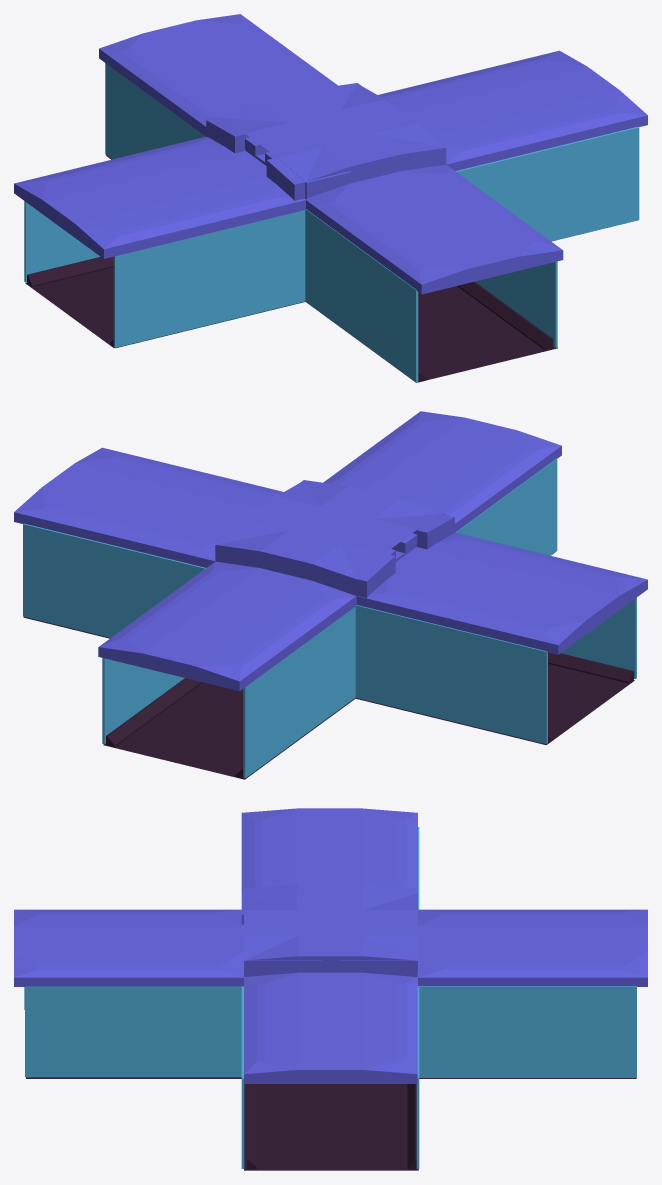
The model's file is newuntitled (2).fbx.
3 views of the same model, one above another, from view 1: azimuth 30°, elevation 25°; view 2: azimuth 150°, elevation 25°; view 3: azimuth 270°, elevation 25° (orthographic).
Parts seen in each view (by area): view 1: Cube.008; view 2: Cube.008; view 3: Cube.008.
Part boxes in pixels (left/top/right/bottom): Cube.008: left=14, top=14, right=647, bottom=382; Cube.008: left=14, top=411, right=647, bottom=779; Cube.008: left=14, top=808, right=647, bottom=1170.
Size of the model in its own units: 3421 by 745 by 3506.
